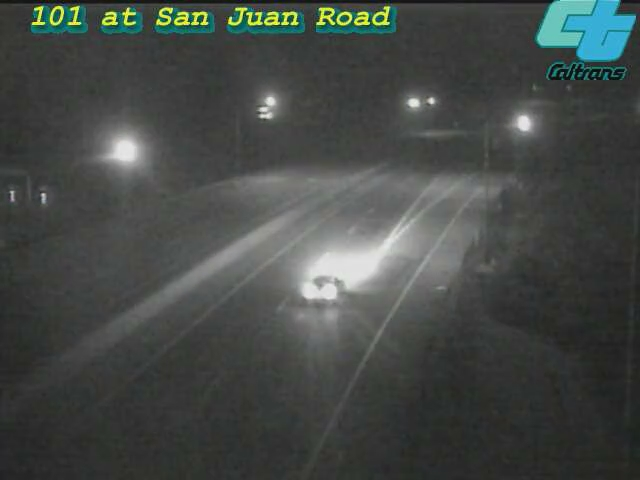vehicle: (286, 244, 366, 324), (501, 98, 551, 148)
